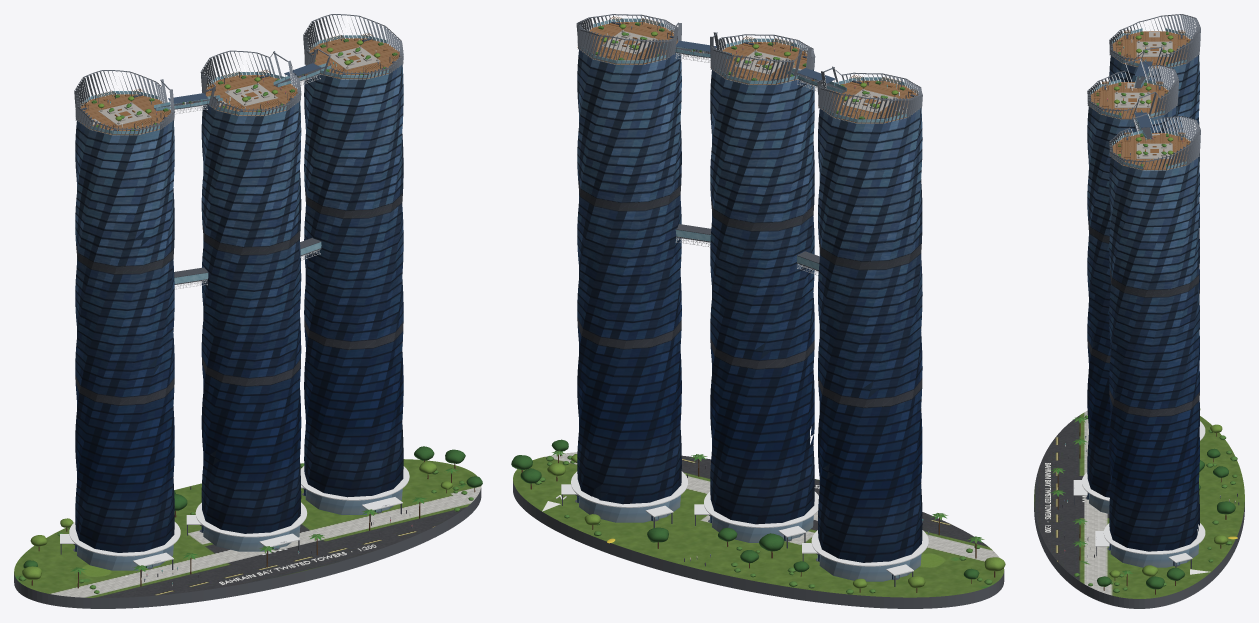
Rendered from towers_ar.glb.
3 renders of one model, left to right at view 1: azimuth 30°, elevation 25°; view 2: azimuth 150°, elevation 25°; view 3: azimuth 270°, elevation 25°, orthographic. The views are drawn at different scales.
Visible parts, largest first — view 1: Twisted_Towers, Plinth, Trees, Site_Context, Roof_Planting; view 2: Twisted_Towers, Plinth, Trees, Roof_Planting; view 3: Twisted_Towers, Plinth, Trees, Roof_Planting, Site_Context, Text.
Boxes of the visible parts, x1,y1,x2,y2 form: Twisted_Towers: [60, 14, 409, 577]; Plinth: [14, 459, 481, 608]; Trees: [18, 446, 482, 593]; Site_Context: [31, 98, 475, 588]; Roof_Planting: [93, 39, 395, 128]; Twisted_Towers: [561, 14, 928, 586]; Plinth: [513, 452, 1004, 608]; Trees: [511, 439, 1005, 594]; Roof_Planting: [596, 22, 903, 117]; Twisted_Towers: [1073, 14, 1205, 568]; Plinth: [1034, 410, 1244, 608]; Trees: [1052, 408, 1237, 592]; Roof_Planting: [1096, 31, 1189, 164]; Site_Context: [1050, 56, 1237, 594]; Text: [1045, 463, 1050, 532].
Size of the model in its own units: 1.09 by 1.09 by 0.481.
52 materials, 31 textured.
